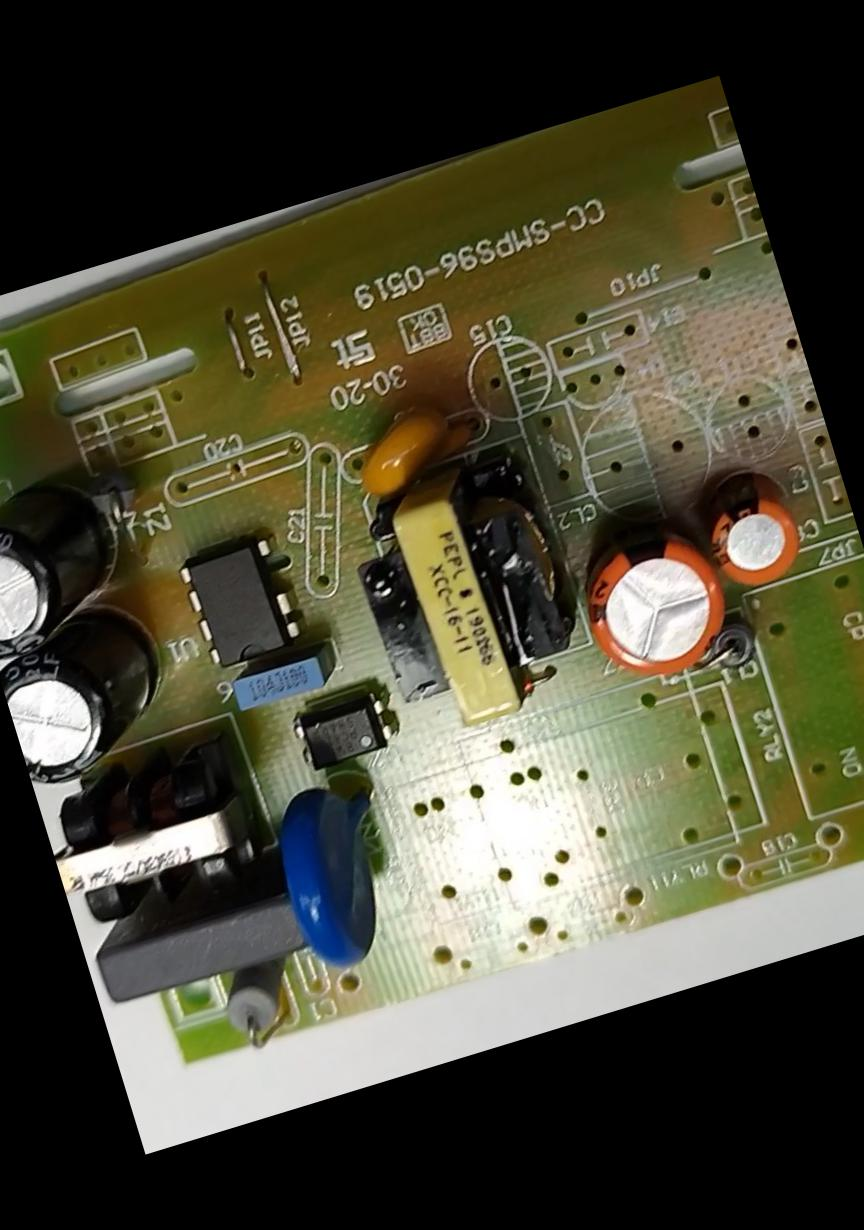Cap1: (566, 514, 734, 693)
Cap2: (692, 467, 808, 599)
Cap3: (0, 606, 192, 795)
Cap4: (0, 471, 132, 666)
MOSFET: (172, 529, 306, 677)
Mov: (256, 762, 420, 980)
Resistor: (210, 951, 310, 1059)
Transformer: (330, 438, 600, 750), (35, 734, 274, 935)
